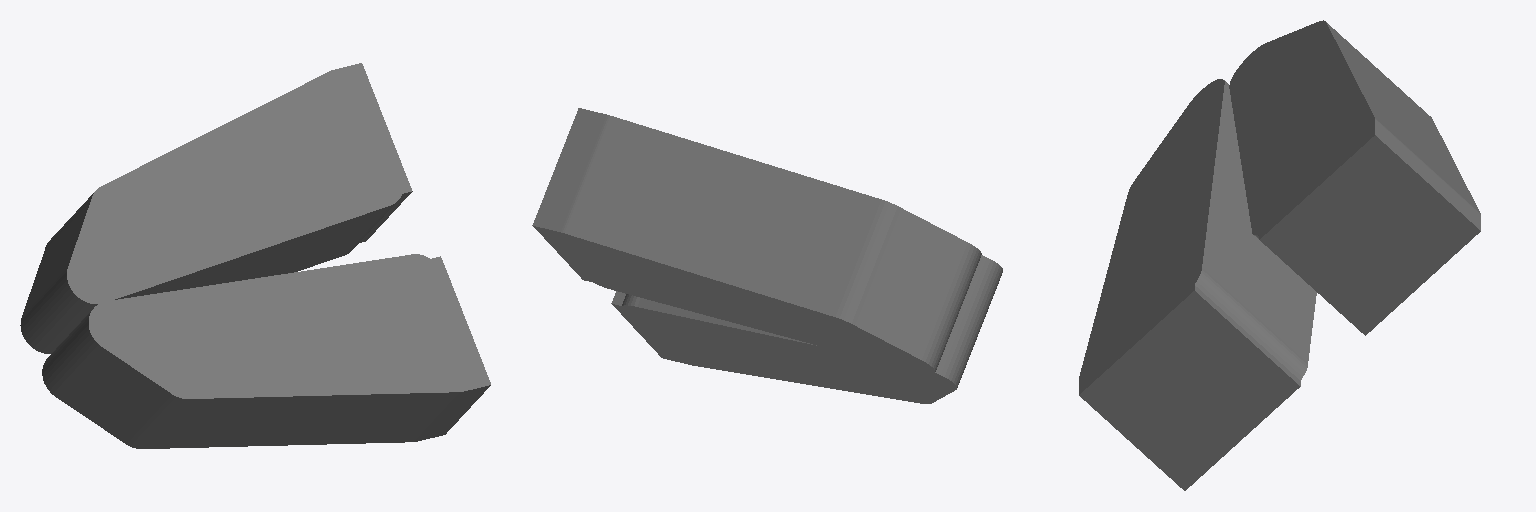
URDF robot description (panda):
<?xml version="1.0" ?>
<!-- =================================================================================== -->
<!-- |    This document was autogenerated by xacro from panda_arm_hand.urdf.xacro      | -->
<!-- |    EDITING THIS FILE BY HAND IS NOT RECOMMENDED                                 | -->
<!-- =================================================================================== -->
<robot name="panda" xmlns:xacro="http://www.ros.org/wiki/xacro">
  <link name="panda_link0">
    <inertial>
      <origin xyz="0 0 0" rpy="0 0 0" />
      <mass value="0" />
      <inertia ixx="1" ixy="0" ixz="0" iyy="1" iyz="0" izz="1" />
    </inertial>
    <visual>
      <geometry>
        <mesh filename="package://franka_description/meshes/visual/link0.dae"/>
      </geometry>
      <material name="panda_white"/>
    </visual>
    <collision>
      <geometry>
        <mesh filename="package://franka_description/meshes/collision/link0.stl"/>
      </geometry>
    </collision>
  </link>
  <link name="panda_link1">
    <inertial>
      <origin xyz="0 0 0" rpy="0 0 0" />
      <mass value="0" />
      <inertia ixx="1" ixy="0" ixz="0" iyy="1" iyz="0" izz="1" />
    </inertial>
    <visual>
      <geometry>
        <mesh filename="package://franka_description/meshes/visual/link1.dae"/>
      </geometry>
      <material name="panda_white"/>
    </visual>
    <collision>
      <geometry>
        <mesh filename="package://franka_description/meshes/collision/link1.stl"/>
      </geometry>
    </collision>
  </link>
  <joint name="panda_joint1" type="revolute">
    <safety_controller k_position="100.0" k_velocity="40.0" soft_lower_limit="-2.8973" soft_upper_limit="2.8973"/>
    <origin rpy="0 0 0" xyz="0 0 0.333"/>
    <parent link="panda_link0"/>
    <child link="panda_link1"/>
    <axis xyz="0 0 1"/>
    <dynamics friction="10.0"/>
    <limit effort="87" lower="-2.8973" upper="2.8973" velocity="2.1750"/>
  </joint>
  <link name="panda_link2">
    <inertial>
      <origin xyz="0 0 0" rpy="0 0 0" />
      <mass value="0" />
      <inertia ixx="1" ixy="0" ixz="0" iyy="1" iyz="0" izz="1" />
    </inertial>
    <visual>
      <geometry>
        <mesh filename="package://franka_description/meshes/visual/link2.dae"/>
      </geometry>
      <material name="panda_white"/>
    </visual>
    <collision>
      <geometry>
        <mesh filename="package://franka_description/meshes/collision/link2.stl"/>
      </geometry>
    </collision>
  </link>
  <joint name="panda_joint2" type="revolute">
    <safety_controller k_position="100.0" k_velocity="40.0" soft_lower_limit="-1.7628" soft_upper_limit="1.7628"/>
    <origin rpy="-1.57079632679 0 0" xyz="0 0 0"/>
    <parent link="panda_link1"/>
    <child link="panda_link2"/>
    <axis xyz="0 0 1"/>
    <dynamics friction="10.0"/>
    <limit effort="87" lower="-1.7628" upper="1.7628" velocity="2.1750"/>
  </joint>
  <link name="panda_link3">
    <inertial>
      <origin xyz="0 0 0" rpy="0 0 0" />
      <mass value="0" />
      <inertia ixx="1" ixy="0" ixz="0" iyy="1" iyz="0" izz="1" />
    </inertial>
    <visual>
      <geometry>
        <mesh filename="package://franka_description/meshes/visual/link3.dae"/>
      </geometry>
      <material name="panda_white"/>
    </visual>
    <collision>
      <geometry>
        <mesh filename="package://franka_description/meshes/collision/link3.stl"/>
      </geometry>
    </collision>
  </link>
  <joint name="panda_joint3" type="revolute">
    <safety_controller k_position="100.0" k_velocity="40.0" soft_lower_limit="-2.8973" soft_upper_limit="2.8973"/>
    <origin rpy="1.57079632679 0 0" xyz="0 -0.316 0"/>
    <parent link="panda_link2"/>
    <child link="panda_link3"/>
    <axis xyz="0 0 1"/>
    <dynamics friction="10.0"/>
    <limit effort="87" lower="-2.8973" upper="2.8973" velocity="2.1750"/>
  </joint>
  <link name="panda_link4">
    <inertial>
      <origin xyz="0 0 0" rpy="0 0 0" />
      <mass value="0" />
      <inertia ixx="1" ixy="0" ixz="0" iyy="1" iyz="0" izz="1" />
    </inertial>
    <visual>
      <geometry>
        <mesh filename="package://franka_description/meshes/visual/link4.dae"/>
      </geometry>
      <material name="panda_white"/>
    </visual>
    <collision>
      <geometry>
        <mesh filename="package://franka_description/meshes/collision/link4.stl"/>
      </geometry>
    </collision>
  </link>
  <joint name="panda_joint4" type="revolute">
    <safety_controller k_position="100.0" k_velocity="40.0" soft_lower_limit="-3.0718" soft_upper_limit="-0.0698"/>
    <origin rpy="1.57079632679 0 0" xyz="0.0825 0 0"/>
    <parent link="panda_link3"/>
    <child link="panda_link4"/>
    <axis xyz="0 0 1"/>
    <dynamics friction="10.0"/>
    <limit effort="87" lower="-3.0718" upper="-0.0698" velocity="2.1750"/>
  </joint>
  <link name="panda_link5">
    <inertial>
      <origin xyz="0 0 0" rpy="0 0 0" />
      <mass value="0" />
      <inertia ixx="1" ixy="0" ixz="0" iyy="1" iyz="0" izz="1" />
    </inertial>
    <visual>
      <geometry>
        <mesh filename="package://franka_description/meshes/visual/link5.dae"/>
      </geometry>
      <material name="panda_white"/>
    </visual>
    <collision>
      <geometry>
        <mesh filename="package://franka_description/meshes/collision/link5.stl"/>
      </geometry>
    </collision>
  </link>
  <joint name="panda_joint5" type="revolute">
    <safety_controller k_position="100.0" k_velocity="40.0" soft_lower_limit="-2.8973" soft_upper_limit="2.8973"/>
    <origin rpy="-1.57079632679 0 0" xyz="-0.0825 0.384 0"/>
    <parent link="panda_link4"/>
    <child link="panda_link5"/>
    <axis xyz="0 0 1"/>
    <dynamics friction="10.0"/>
    <limit effort="12" lower="-2.8973" upper="2.8973" velocity="2.6100"/>
  </joint>
  <link name="panda_link6">
    <inertial>
      <origin xyz="0 0 0" rpy="0 0 0" />
      <mass value="0" />
      <inertia ixx="1" ixy="0" ixz="0" iyy="1" iyz="0" izz="1" />
    </inertial>
    <visual>
      <geometry>
        <mesh filename="package://franka_description/meshes/visual/link6.dae"/>
      </geometry>
      <material name="panda_white"/>
    </visual>
    <collision>
      <geometry>
        <mesh filename="package://franka_description/meshes/collision/link6.stl"/>
      </geometry>
    </collision>
  </link>
  <joint name="panda_joint6" type="revolute">
    <safety_controller k_position="100.0" k_velocity="40.0" soft_lower_limit="-0.0175" soft_upper_limit="3.7525"/>
    <origin rpy="1.57079632679 0 0" xyz="0 0 0"/>
    <parent link="panda_link5"/>
    <child link="panda_link6"/>
    <axis xyz="0 0 1"/>
    <dynamics friction="10.0"/>
    <limit effort="12" lower="-0.0175" upper="3.7525" velocity="2.6100"/>
  </joint>
  <link name="panda_link7">
    <inertial>
      <origin xyz="0 0 0" rpy="0 0 0" />
      <mass value="0" />
      <inertia ixx="1" ixy="0" ixz="0" iyy="1" iyz="0" izz="1" />
    </inertial>
    <visual>
      <geometry>
        <mesh filename="package://franka_description/meshes/visual/link7.dae"/>
      </geometry>
      <material name="panda_white"/>
    </visual>
    <collision>
      <geometry>
        <mesh filename="package://franka_description/meshes/collision/link7.stl"/>
      </geometry>
    </collision>
  </link>
  <joint name="panda_joint7" type="revolute">
    <safety_controller k_position="100.0" k_velocity="40.0" soft_lower_limit="-2.8973" soft_upper_limit="2.8973"/>
    <origin rpy="1.57079632679 0 0" xyz="0.088 0 0"/>
    <parent link="panda_link6"/>
    <child link="panda_link7"/>
    <axis xyz="0 0 1"/>
    <dynamics friction="10.0"/>
    <limit effort="12" lower="-2.8973" upper="2.8973" velocity="2.6100"/>
  </joint>
  <link name="panda_link8">
    <inertial>
      <origin xyz="0 0 0" rpy="0 0 0" />
      <mass value="0" />
      <inertia ixx="1" ixy="0" ixz="0" iyy="1" iyz="0" izz="1" />
    </inertial>
  </link>
  <joint name="panda_joint8" type="fixed">
    <origin rpy="0 0 0" xyz="0 0 0.107"/>
    <parent link="panda_link7"/>
    <child link="panda_link8"/>
    <axis xyz="0 0 0"/>
  </joint>
  <joint name="panda_hand_joint" type="fixed">
    <parent link="panda_link8"/>
    <child link="panda_hand"/>
    <origin rpy="0 0 -0.785398163397" xyz="0 0 0"/>
  </joint>
  <link name="panda_hand">
    <inertial>
      <origin xyz="0 0 0" rpy="0 0 0" />
      <mass value="0" />
      <inertia ixx="1" ixy="0" ixz="0" iyy="1" iyz="0" izz="1" />
    </inertial>
    <visual>
      <geometry>
        <mesh filename="package://franka_description/meshes/visual/hand.dae"/>
      </geometry>
      <material name="panda_white"/>
    </visual>
    <collision>
      <geometry>
        <mesh filename="package://franka_description/meshes/collision/hand.stl"/>
      </geometry>
    </collision>
  </link>
  <link name="panda_leftfinger">
    <inertial>
      <origin xyz="0 0 0" rpy="0 0 0" />
      <mass value="0" />
      <inertia ixx="1" ixy="0" ixz="0" iyy="1" iyz="0" izz="1" />
    </inertial>  
    <visual>
      <origin rpy="0 0 0" xyz="0 0 0"/>
      <geometry>
        <mesh filename="package://franka_description/meshes/collision/belt_finger_simplified.STL"/>
      </geometry>
      <material name="panda_grey"/>
    </visual>
    <collision>
      <origin rpy="0 0 0" xyz="0 0 0"/>
      <geometry>
        <mesh filename="package://franka_description/meshes/collision/belt_finger_simplified.STL"/>
      </geometry>
    </collision>
  </link>
  <link name="panda_rightfinger">
    <inertial>
      <origin xyz="0 0 0" rpy="0 0 0" />
      <mass value="0" />
      <inertia ixx="1" ixy="0" ixz="0" iyy="1" iyz="0" izz="1" />
    </inertial>
    <visual>
      <origin rpy="0 0 3.14159265359" xyz="0 0 0"/>
      <geometry>
        <mesh filename="package://franka_description/meshes/collision/belt_finger_simplified.STL"/>
      </geometry>
      <material name="panda_grey"/>
    </visual>
    <collision>
      <origin rpy="0 0 3.14159265359" xyz="0 0 0"/>
      <geometry>
        <mesh filename="package://franka_description/meshes/collision/belt_finger_simplified.STL"/>
      </geometry>
    </collision>
  </link>
  <joint name="panda_finger_joint1" type="prismatic">
    <parent link="panda_hand"/>
    <child link="panda_leftfinger"/>
    <origin rpy="0 0 0" xyz="0 0 0.0685"/>
    <axis xyz="0 1 0"/>
    <limit effort="20" lower="0.0" upper="0.04" velocity="0.2"/>
  </joint>
  <joint name="panda_finger_joint2" type="prismatic">
    <parent link="panda_hand"/>
    <child link="panda_rightfinger"/>
    <origin rpy="0 0 0" xyz="0 0 0.0685"/>
    <axis xyz="0 -1 0"/>
    <limit effort="20" lower="0.0" upper="0.04" velocity="0.2"/>
    <mimic joint="panda_finger_joint1"/>
  </joint>
  <link name="tool_link">
    <inertial>
      <origin xyz="0 0 0" rpy="0 0 0" />
      <mass value="0" />
      <inertia ixx="1" ixy="0" ixz="0" iyy="1" iyz="0" izz="1" />
    </inertial>
  </link>
  <joint name="tool_joint" type="fixed">
    <origin rpy="0 0 2.35619449019" xyz="0.0 0 0.1"/>
    <axis xyz="0 0 1"/>
    <parent link="panda_link8"/>
    <child link="tool_link"/>
  </joint>
  <material name="panda_white">
    <color rgba="1. 1. 1. 1."/>
  </material>
  <material name="panda_grey">
    <color rgba="0.5 0.5 0.5 1."/>
  </material>
</robot>

--- What the picture shows (computed from the rendered views, not written in the file) ---
3 views of the same robot in one strip: view 1: azimuth 30°, elevation 25°; view 2: azimuth 150°, elevation 25°; view 3: azimuth 270°, elevation 25° (orthographic).
Robot: panda — 13 links, 12 joints (7 revolute, 2 prismatic, 3 fixed); root link panda_link0; default pose: all joints at 0 but 1 set to mid-range because 0 is outside their limits (panda_joint4 = -1.57).
Links seen in each view (by area): view 1: panda_leftfinger, panda_rightfinger; view 2: panda_rightfinger, panda_leftfinger; view 3: panda_leftfinger, panda_rightfinger.
Boxes of the visible links, x1,y1,x2,y2 form: panda_leftfinger: [42, 254, 490, 448]; panda_rightfinger: [20, 63, 412, 353]; panda_rightfinger: [532, 108, 981, 374]; panda_leftfinger: [611, 255, 1002, 403]; panda_leftfinger: [1079, 79, 1316, 490]; panda_rightfinger: [1229, 20, 1480, 335].
Bounding box of the posed robot: 0.0857 × 0.0751 × 0.0734 m (x, y, z).
Meshes: 10 distinct files referenced, 2 mesh visuals loaded (1 binary STL); not drawn: 9 (reference not matched to a file when rendering).